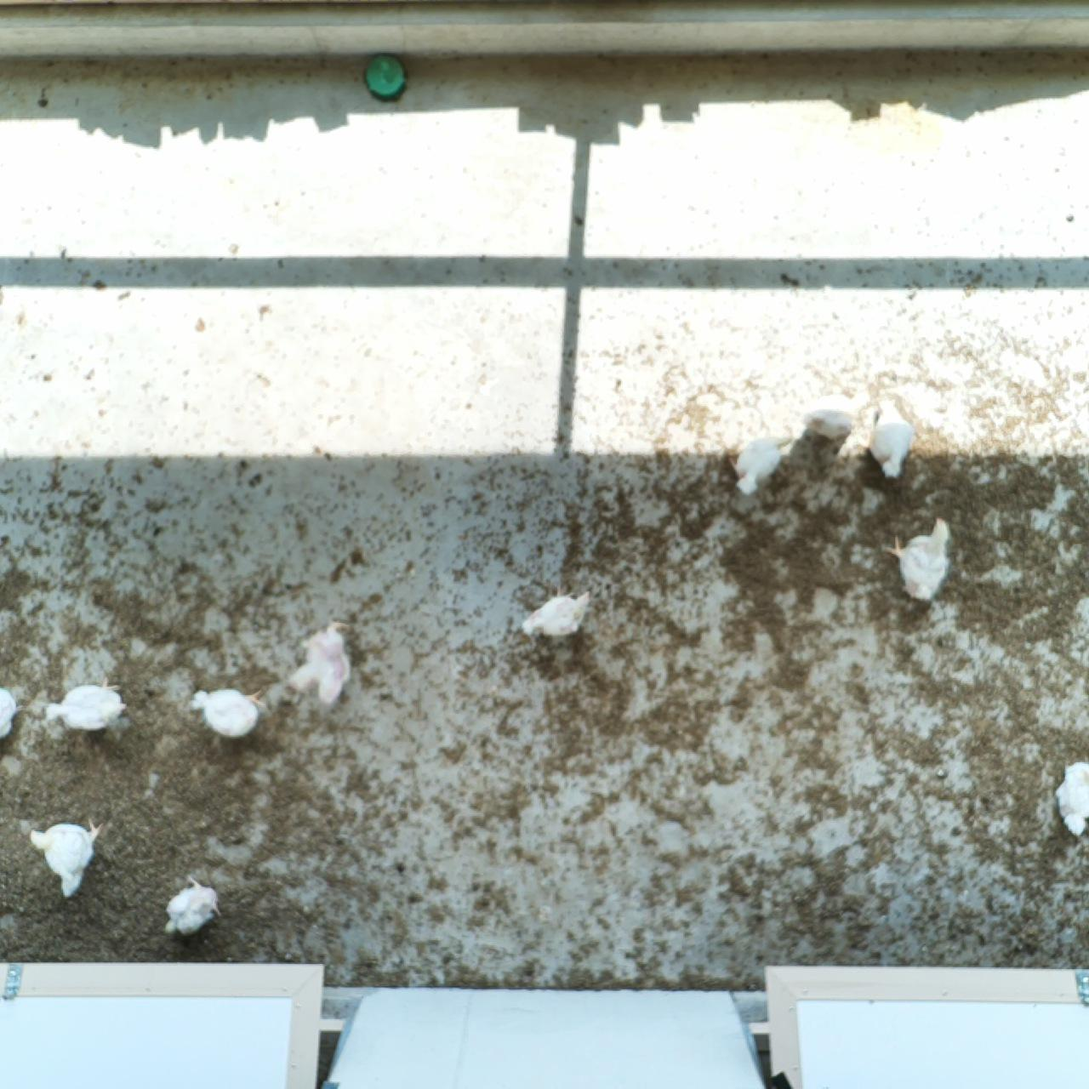chicken: (880, 511, 955, 607), (26, 815, 108, 901), (285, 615, 356, 709), (185, 681, 267, 745), (43, 677, 129, 734), (727, 425, 794, 498), (518, 582, 593, 645), (861, 396, 917, 480), (793, 387, 872, 446), (160, 872, 224, 938), (1051, 752, 1089, 841), (0, 686, 21, 744)
